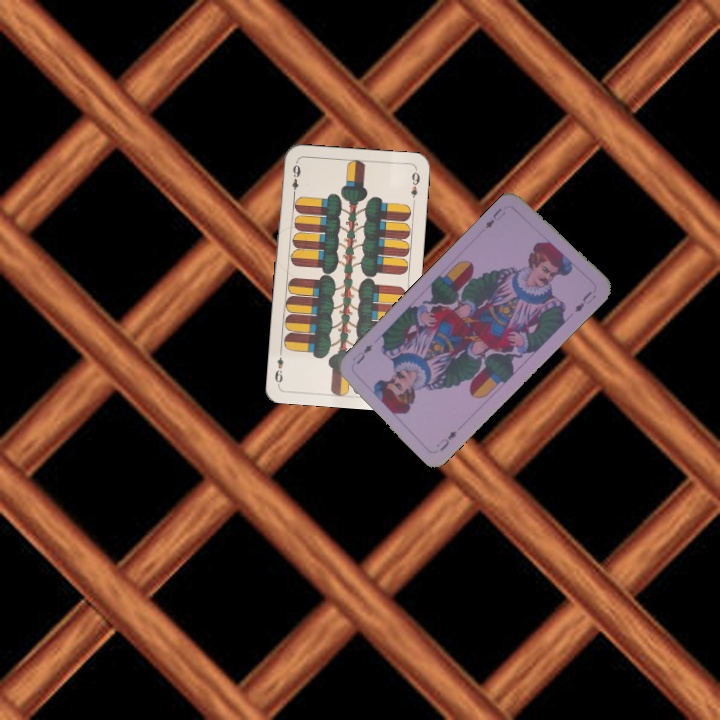E9: (288, 161, 303, 199)
EU: (432, 427, 459, 454), (481, 204, 506, 231)
